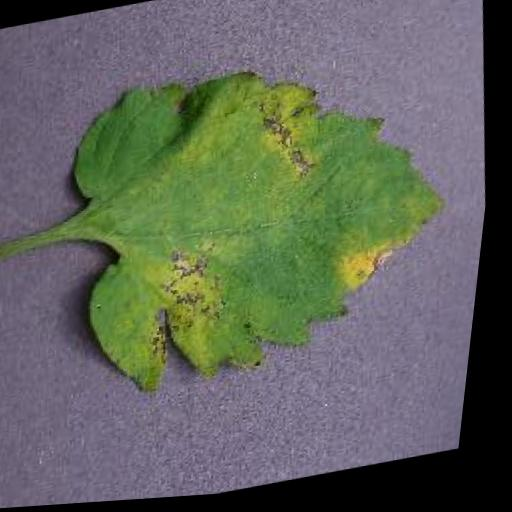Septoria: (37, 25, 486, 415)
